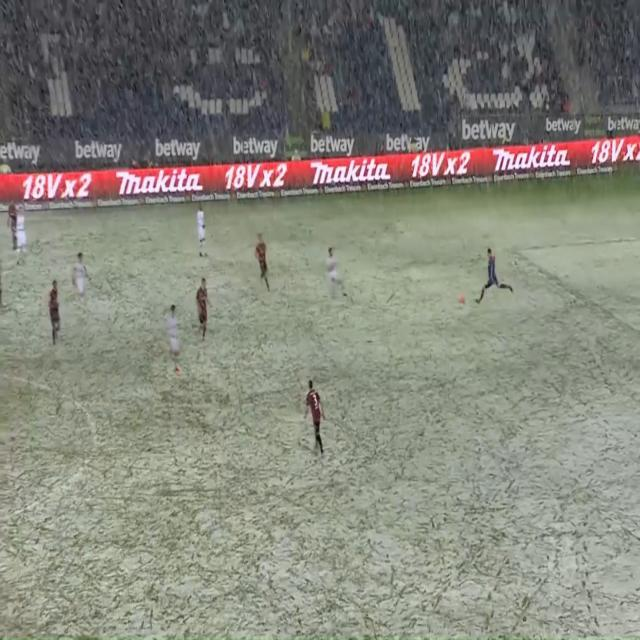ball: (451, 284, 471, 314)
goalkeeper: (476, 238, 517, 318)
player: (296, 370, 336, 463), (152, 293, 189, 383), (185, 264, 218, 342), (322, 236, 353, 309), (250, 220, 275, 302), (71, 243, 95, 320), (40, 274, 63, 349), (191, 196, 213, 261), (16, 204, 32, 269), (6, 196, 21, 253)
